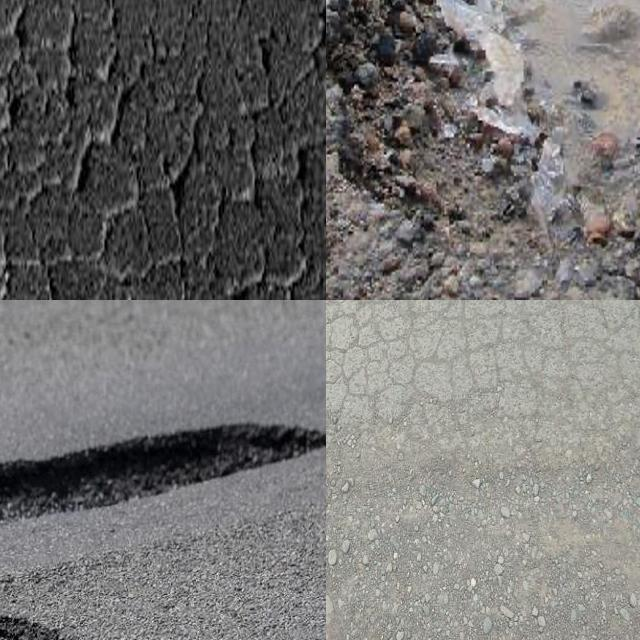Lubang: (342, 0, 640, 250), (0, 421, 326, 526)
Retak Buaya: (0, 0, 326, 300), (326, 300, 640, 458)
